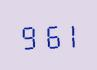nine: (18, 21, 37, 50)
one: (59, 19, 78, 48)
six: (39, 20, 58, 49)
